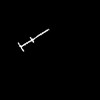double_crochet: (18, 30, 47, 50)
